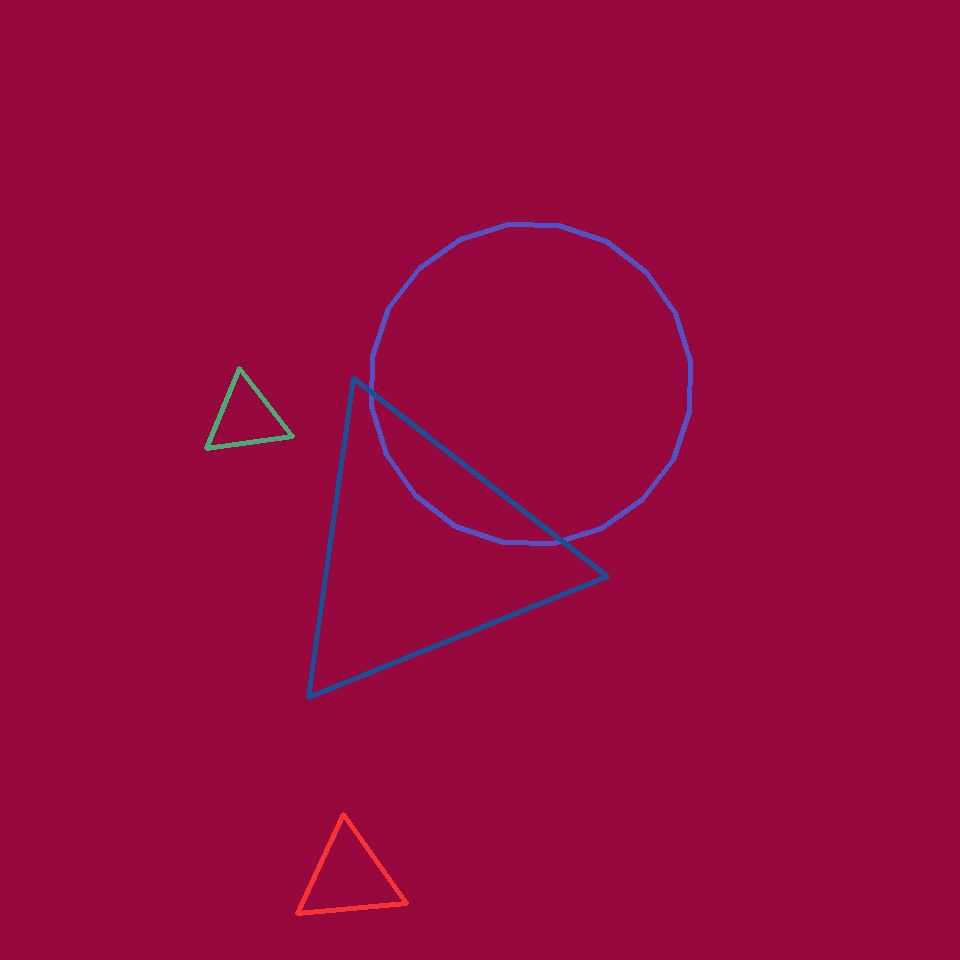circle: (274, 392, 572, 710), (294, 828, 404, 926), (203, 378, 289, 458)
triangle: (372, 225, 690, 544)
